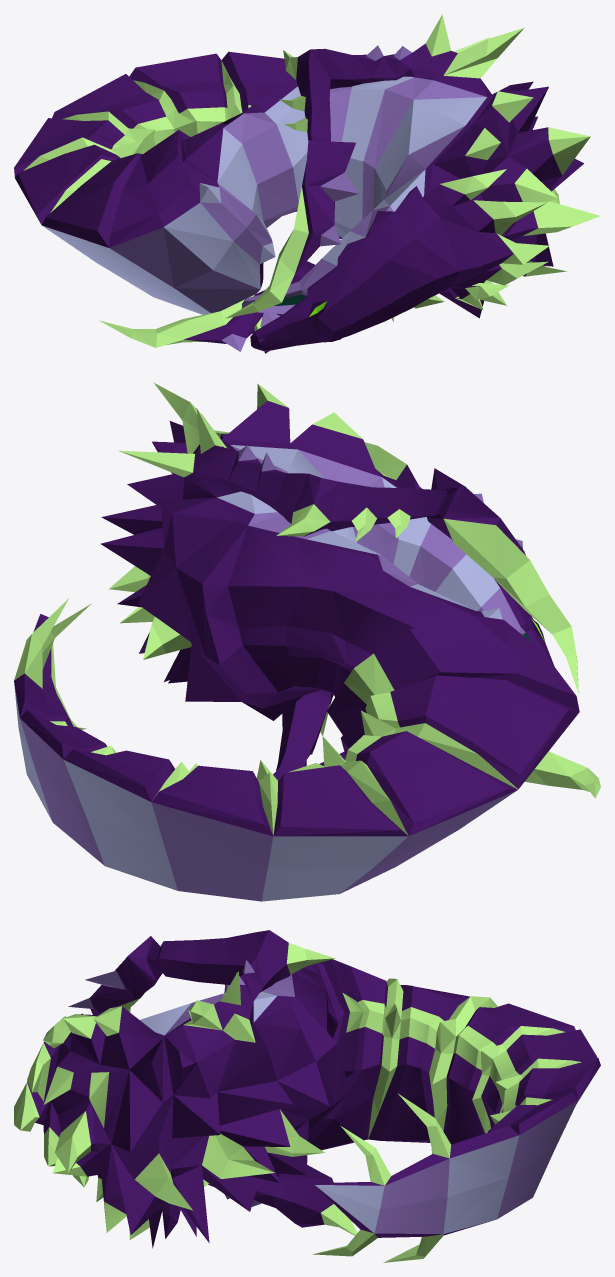
File: Dead (41).obj
The picture shows the model from 3 angles, top to bottom: view 1: azimuth 30°, elevation 25°; view 2: azimuth 150°, elevation 25°; view 3: azimuth 270°, elevation 25°; orthographic projection. The views are drawn at different scales.
Parts seen in each view (by area): view 1: Alien_Serpent; view 2: Alien_Serpent; view 3: Alien_Serpent.
Part boxes in pixels (box(x1,y1,x2,y2)): Alien_Serpent: box(14, 14, 600, 353); Alien_Serpent: box(14, 382, 600, 901); Alien_Serpent: box(14, 930, 600, 1262).
Bounding box in the file's own units: 214 × 144 × 246.
Materials: 1 (1 with a texture image).
